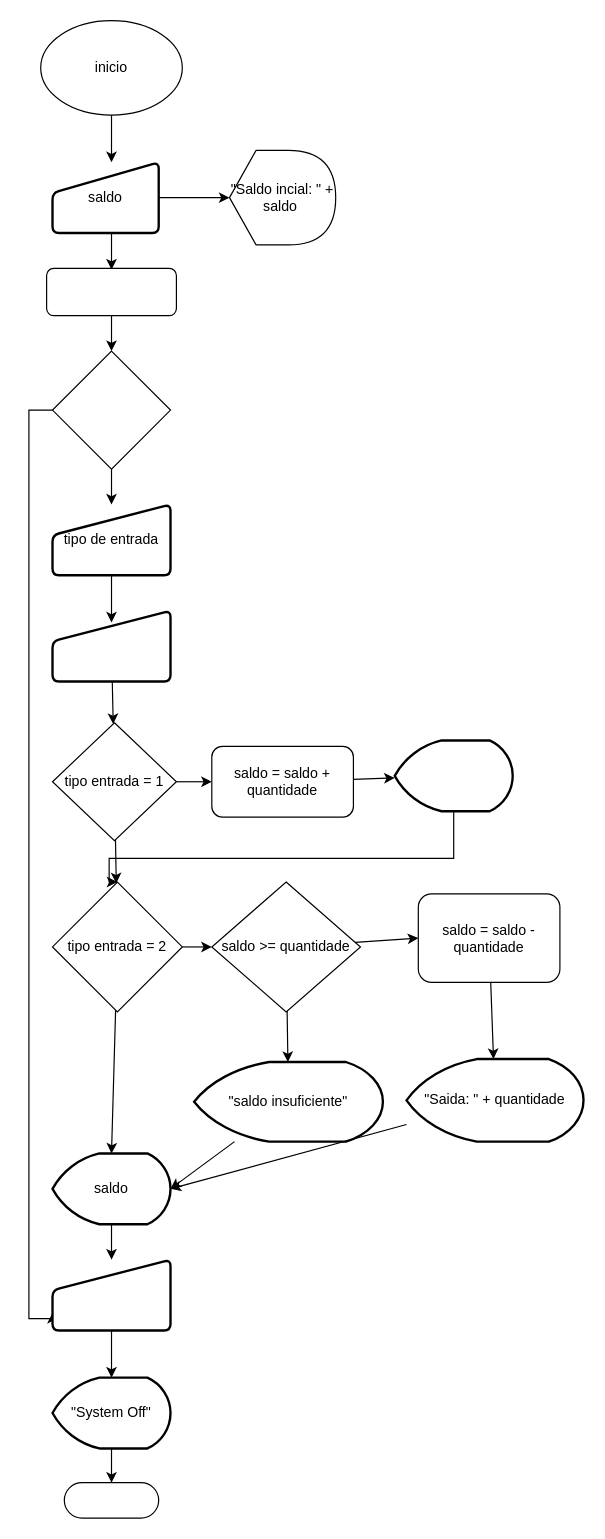
This 605x1539 diagram has some shape labels left out. The centre of each missing label's shape, as x and y in pixels:
"Entrada: " + quantidade: pixel 453 775
encerra = "n": pixel 110 291
encerra == "n": pixel 111 409
encerra ? (S/N): pixel 111 1294
fim: pixel 111 1499
quantidade: pixel 111 645
